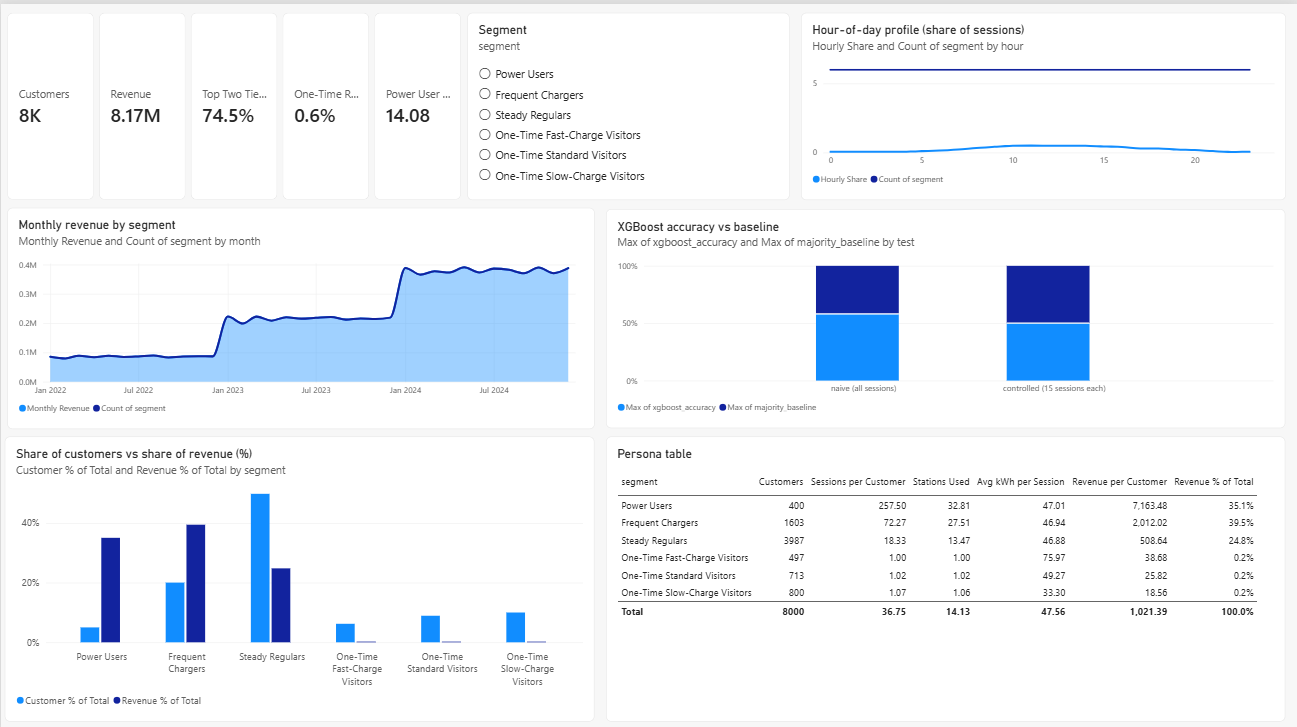

The page's visual inventory and layout, read from the dashboard file:
{"tool":"powerbi","page":{"name":"Customer_Behaviour_Segmentation","canvas":[1920,1080],"ordinal":0},"visuals":[{"type":"cardVisual","title":"EV Customer Segmentation","fields":{"Data":["customer_features_segments.Customers","customer_features_segments.Revenue","customer_features_segments.Top Two Tiers Revenue %","customer_features_segments.One-Time Revenue %","customer_features_segments.Power User vs Steady Regular"]},"box":[8.7,12.2,675,277.3],"z":0},{"type":"listSlicer","title":"Segment","fields":{"Values":["Dim_Segment.segment"]},"box":[690.7,12.2,477.9,277.3],"z":1},{"type":"clusteredColumnChart","title":"Share of customers vs share of revenue (%)\t","fields":{"Category":["Dim_Segment.segment"],"Y":["customer_features_segments.Customer % of Total","customer_features_segments.Revenue % of Total"]},"box":[5.2,640.1,873.8,422.1],"z":2},{"type":"stackedAreaChart","title":"Monthly revenue by segment","fields":{"Category":["monthly_revenue_by_segment.month"],"Y":["customer_features_segments.Monthly Revenue","CountNonNull(Dim_Segment.segment)"]},"box":[8.7,301.7,870.4,327.9],"z":3},{"type":"lineChart","title":"Hour-of-day profile (share of sessions)","fields":{"Category":["hourly_profile_by_segment.hour"],"Y":["customer_features_segments.Hourly Share","CountNonNull(Dim_Segment.segment)"]},"box":[1184.3,12.2,718.6,277.3],"z":4},{"type":"hundredPercentStackedColumnChart","title":"XGBoost accuracy vs baseline","fields":{"Category":["model_validation.test"],"Y":["Max(model_validation.xgboost_accuracy)","Max(model_validation.majority_baseline)"]},"box":[896.5,303.5,1006.4,324.4],"z":5},{"type":"tableEx","title":"Persona table","fields":{"Values":["Dim_Segment.segment","customer_features_segments.Customers","customer_features_segments.Sessions per Customer","customer_features_segments.Stations Used","customer_features_segments.Avg kWh per Session","customer_features_segments.Revenue per Customer","customer_features_segments.Revenue % of Total"]},"box":[896.5,640.1,1006.4,422.1],"z":6}]}

Visuals, with their boxes in screenshot pixels (x1, y1, x2, y2), scaled from the page's 1920x1080 canvas onto the 1297x727 screenshot:
"EV Customer Segmentation" cardVisual: {"left": 6, "top": 8, "right": 462, "bottom": 195}
"Segment" listSlicer: {"left": 467, "top": 8, "right": 789, "bottom": 195}
"Share of customers vs share of revenue (%)	" clusteredColumnChart: {"left": 4, "top": 431, "right": 594, "bottom": 715}
"Monthly revenue by segment" stackedAreaChart: {"left": 6, "top": 203, "right": 594, "bottom": 424}
"Hour-of-day profile (share of sessions)" lineChart: {"left": 800, "top": 8, "right": 1285, "bottom": 195}
"XGBoost accuracy vs baseline" hundredPercentStackedColumnChart: {"left": 606, "top": 204, "right": 1285, "bottom": 423}
"Persona table" tableEx: {"left": 606, "top": 431, "right": 1285, "bottom": 715}
